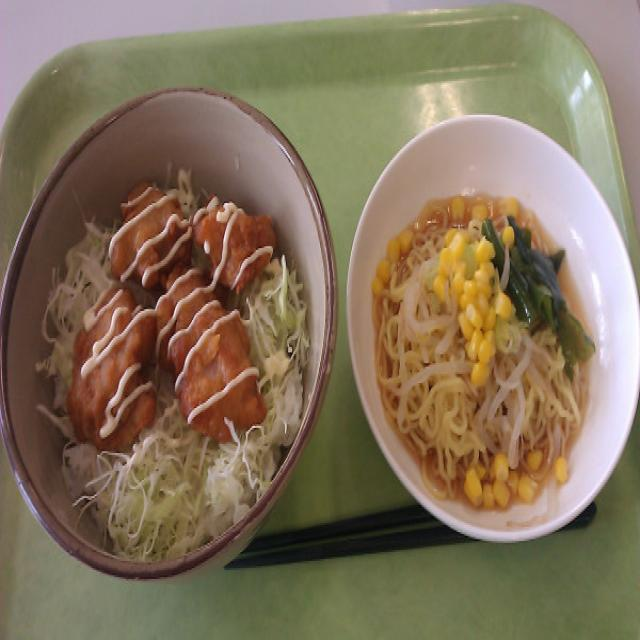面条主食: (343, 97, 640, 539)
